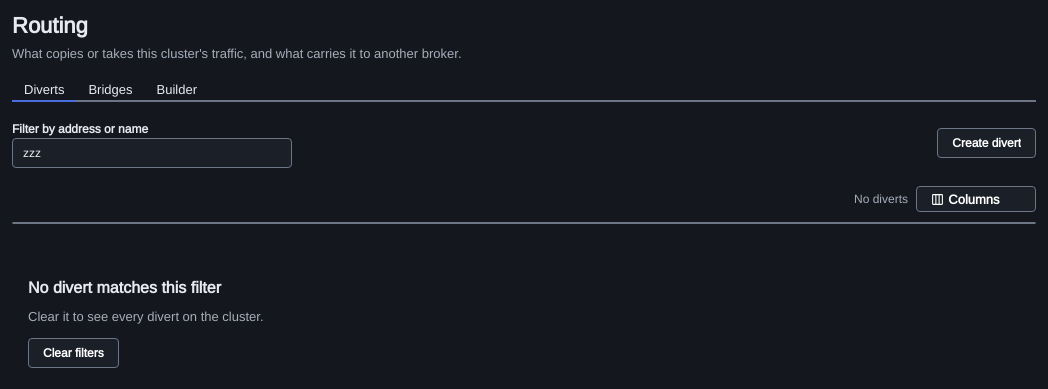
Test case: RoutingView diverts › says a filter emptied the list and clears it from the empty state
Check: the text "No divert matches this filter" is shown, box x1=28 y1=276 x2=221 y2=300
Check: the text "Clear it to see every divert on the cluster." is shown, box x1=28 y1=308 x2=264 y2=326
Click the button "Clear filters" at (73, 353), box x1=28 y1=338 x2=119 y2=368
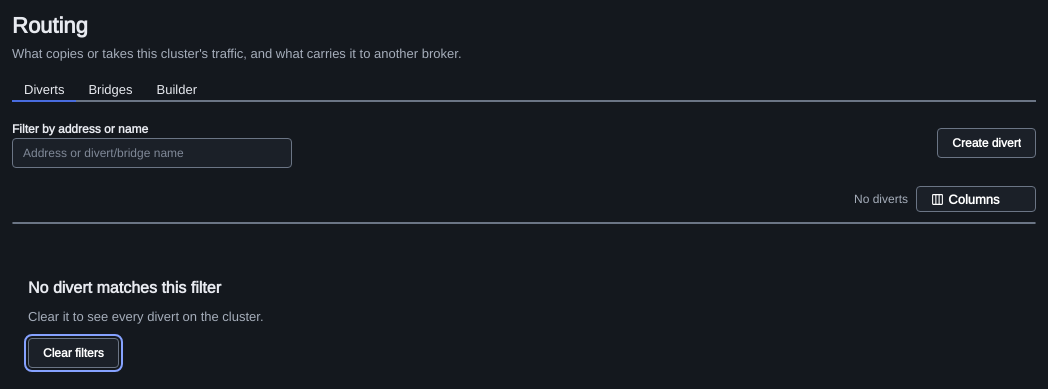
Check: the field labelled "Filter by address or name" is empty, box x1=12 y1=138 x2=292 y2=168
